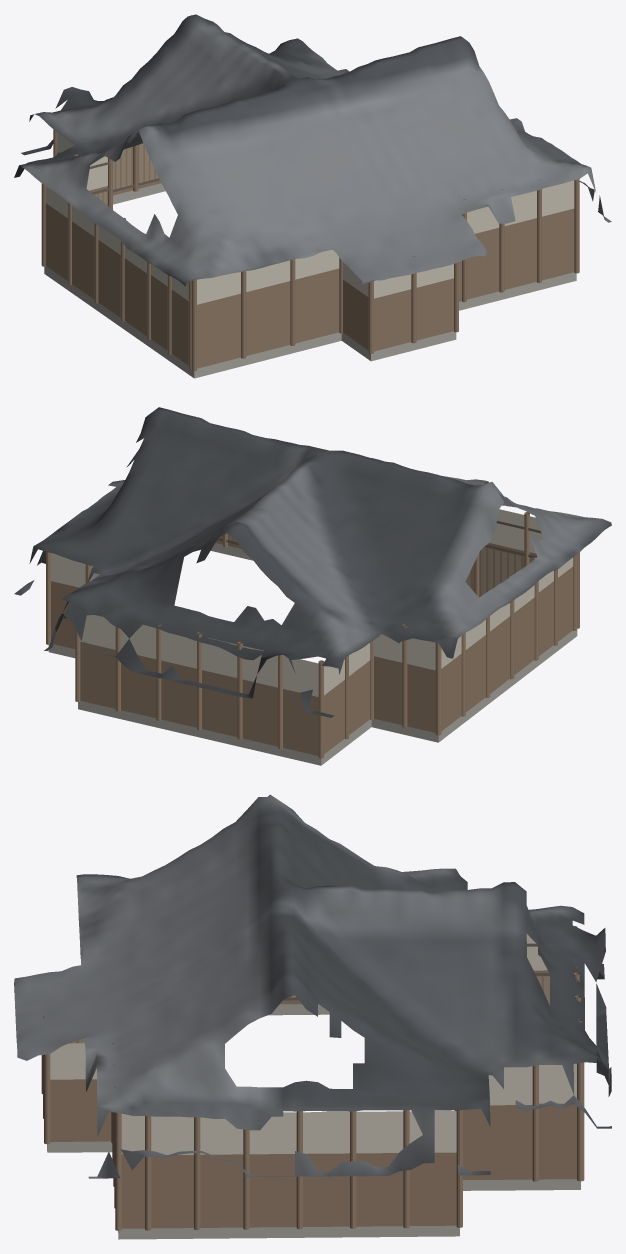
File: daikakuji-miedo.glb
The picture shows the model from 3 angles, top to bottom: view 1: azimuth 30°, elevation 25°; view 2: azimuth 150°, elevation 25°; view 3: azimuth 270°, elevation 25°; orthographic projection. The views are drawn at different scales.
Parts seen in each view (by area): view 1: Measured roof, Weathered timber, Lime plaster, Stone footings, Shutter slats; view 2: Measured roof, Weathered timber, Lime plaster, Stone footings, Shutter slats; view 3: Measured roof, Weathered timber, Lime plaster, Stone footings.
Part boxes in pixels (x1=…): Measured roof: x1=14, y1=14, x2=611, y2=286; Weathered timber: x1=41, y1=129, x2=579, y2=371; Lime plaster: x1=45, y1=132, x2=574, y2=304; Stone footings: x1=44, y1=183, x2=576, y2=378; Shutter slats: x1=95, y1=143, x2=158, y2=204; Measured roof: x1=14, y1=407, x2=611, y2=717; Weathered timber: x1=46, y1=512, x2=579, y2=758; Lime plaster: x1=51, y1=509, x2=573, y2=696; Stone footings: x1=48, y1=543, x2=577, y2=765; Shutter slats: x1=219, y1=535, x2=532, y2=595; Measured roof: x1=14, y1=794, x2=611, y2=1178; Weathered timber: x1=41, y1=926, x2=584, y2=1230; Lime plaster: x1=50, y1=934, x2=576, y2=1154; Stone footings: x1=47, y1=1004, x2=580, y2=1239.
Bounding box in the file's own units: 25.61 × 11.19 × 25.71.
Materials: 6 (1 with a texture image).
